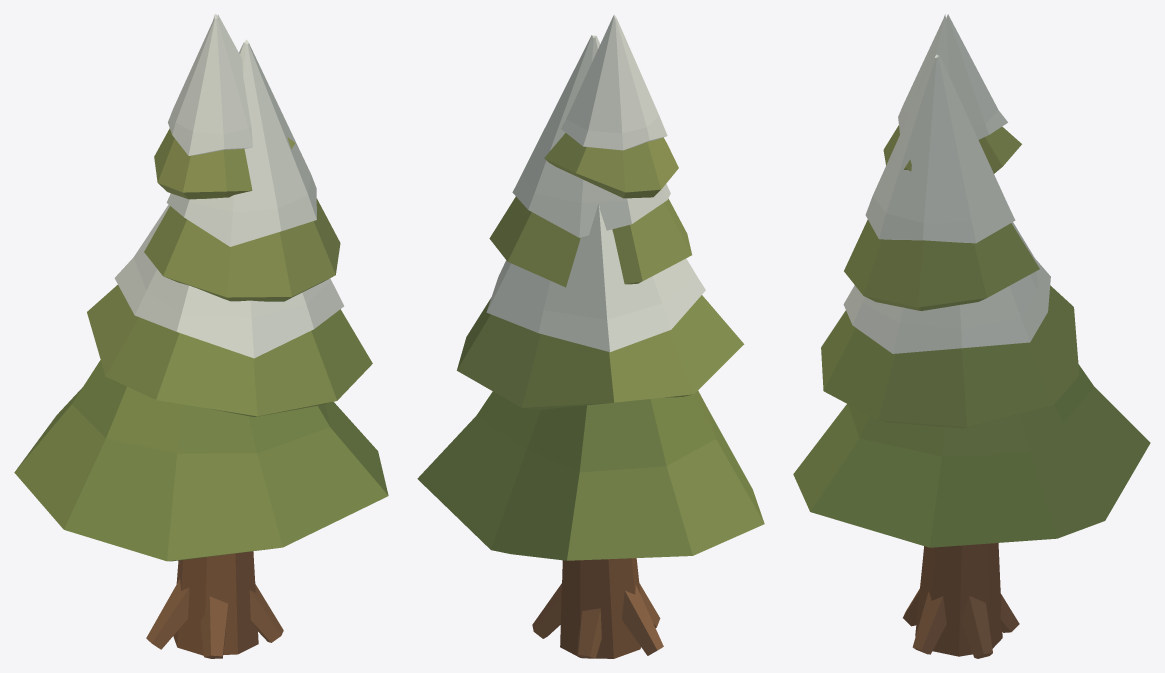
Rendered from forage_5_winter.glb.
3 views of the same model, side by side, from view 1: azimuth 30°, elevation 25°; view 2: azimuth 150°, elevation 25°; view 3: azimuth 270°, elevation 25° (orthographic).
Parts seen in each view (by area): view 1: Rohstoff 5 · winter; view 2: Rohstoff 5 · winter; view 3: Rohstoff 5 · winter.
Part boxes in pixels (x1,y1,x2,y2): Rohstoff 5 · winter: (14,14,388,658); Rohstoff 5 · winter: (417,14,764,658); Rohstoff 5 · winter: (793,14,1150,658).
Bounding box in the file's own units: 2.54 × 5.02 × 2.61.
